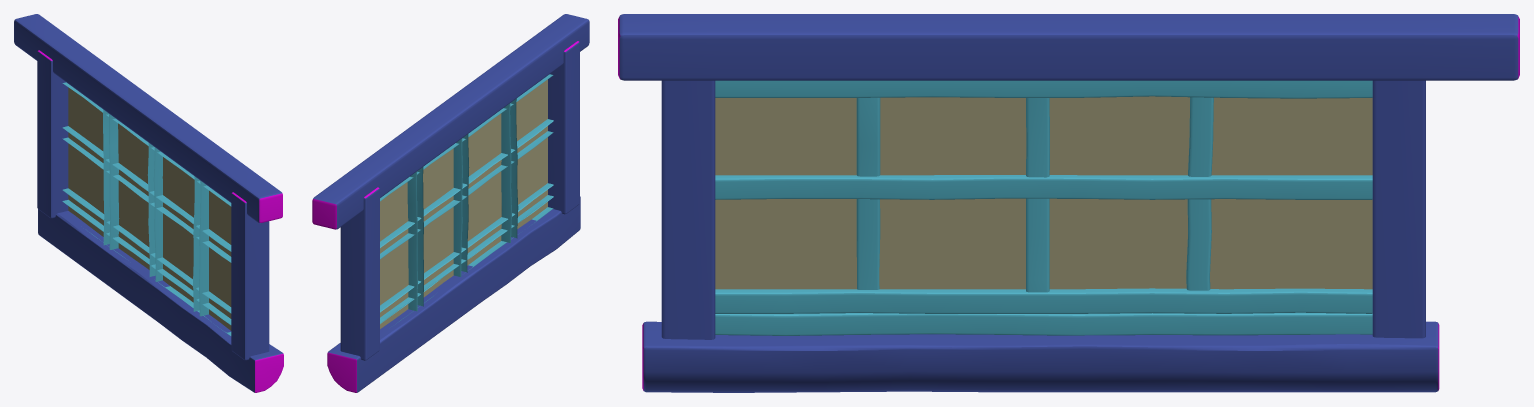
File: SM_Hous1Side_2Floor_R.fbx
3 views of the same model, side by side, from view 1: azimuth 30°, elevation 25°; view 2: azimuth 150°, elevation 25°; view 3: azimuth 270°, elevation 25° (orthographic). The views are drawn at different scales.
Visible parts, largest first — view 1: SM_Hous1Side_2Floor; view 2: SM_Hous1Side_2Floor; view 3: SM_Hous1Side_2Floor.
Part boxes in pixels (x1=…): SM_Hous1Side_2Floor: x1=14, y1=14, x2=283, y2=392; SM_Hous1Side_2Floor: x1=312, y1=14, x2=589, y2=392; SM_Hous1Side_2Floor: x1=618, y1=14, x2=1519, y2=392.
Bounding box in the file's own units: 0.6313 × 3.44 × 7.6.
